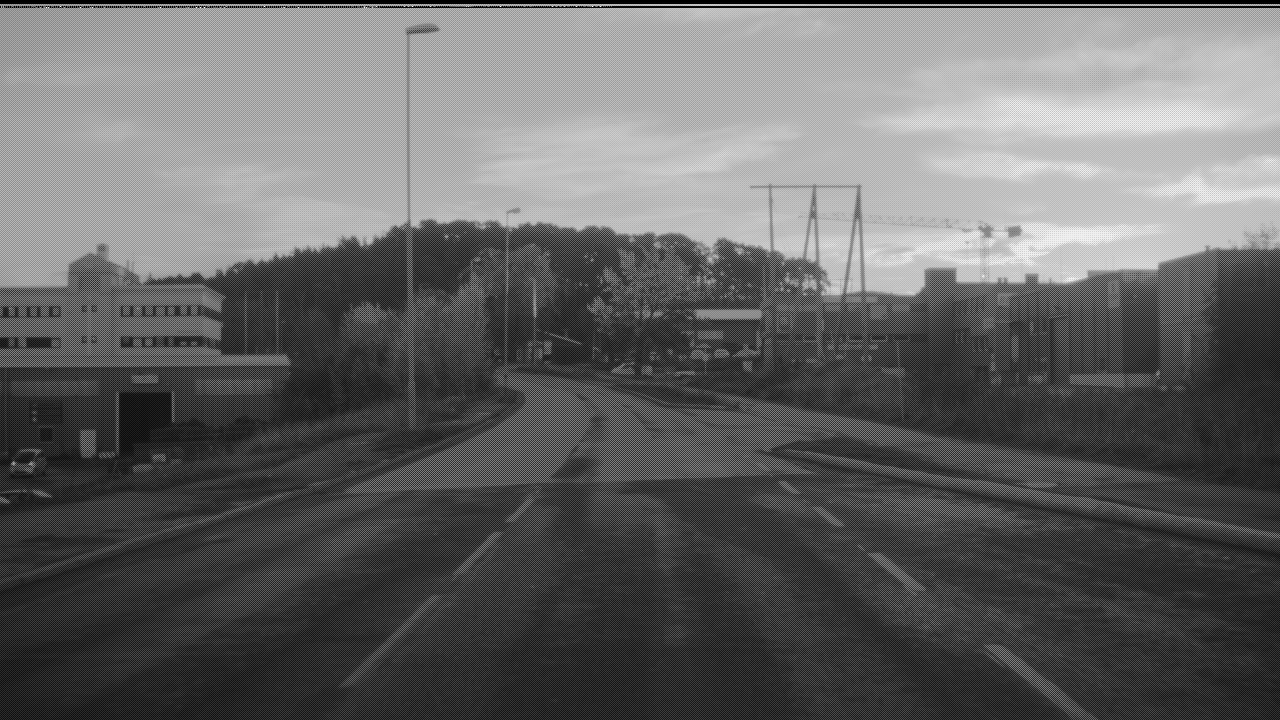pole: (405, 32, 413, 419), (501, 208, 508, 388)
